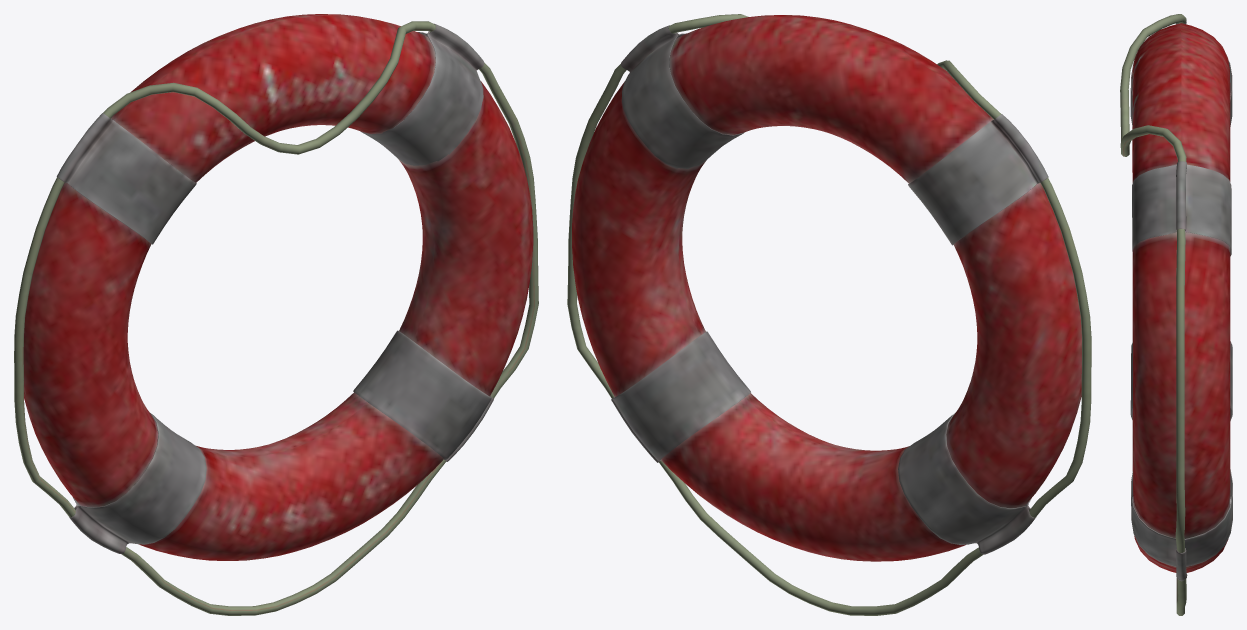
File: lifebuoy.glb
3 renders of one model, left to right at view 1: azimuth 30°, elevation 25°; view 2: azimuth 150°, elevation 25°; view 3: azimuth 270°, elevation 25°, orthographic. The views are drawn at different scales.
Visible parts, largest first — view 1: lifebuoy; view 2: lifebuoy; view 3: lifebuoy.
Part boxes in pixels (x1,y1,x2,y2): lifebuoy: (14,14,538,615); lifebuoy: (567,14,1091,615); lifebuoy: (1120,14,1232,615).
Size of the model in its own units: 0.7832 by 0.8411 by 0.1552.
Materials: 1 (1 with a texture image).
